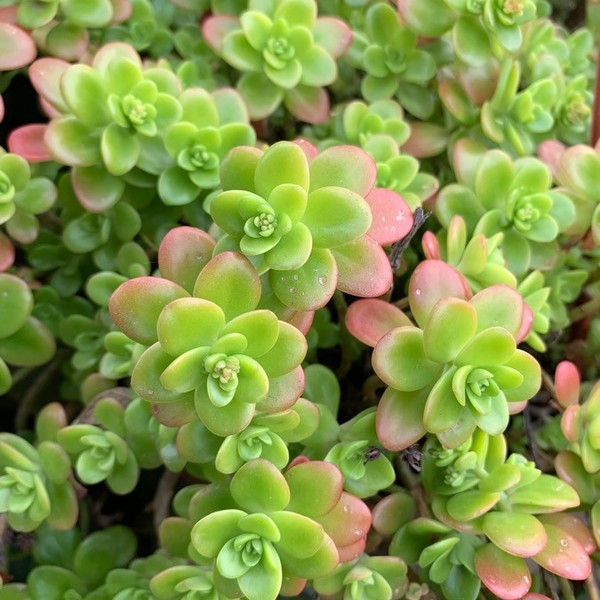obstacle: (39, 37, 538, 556)
